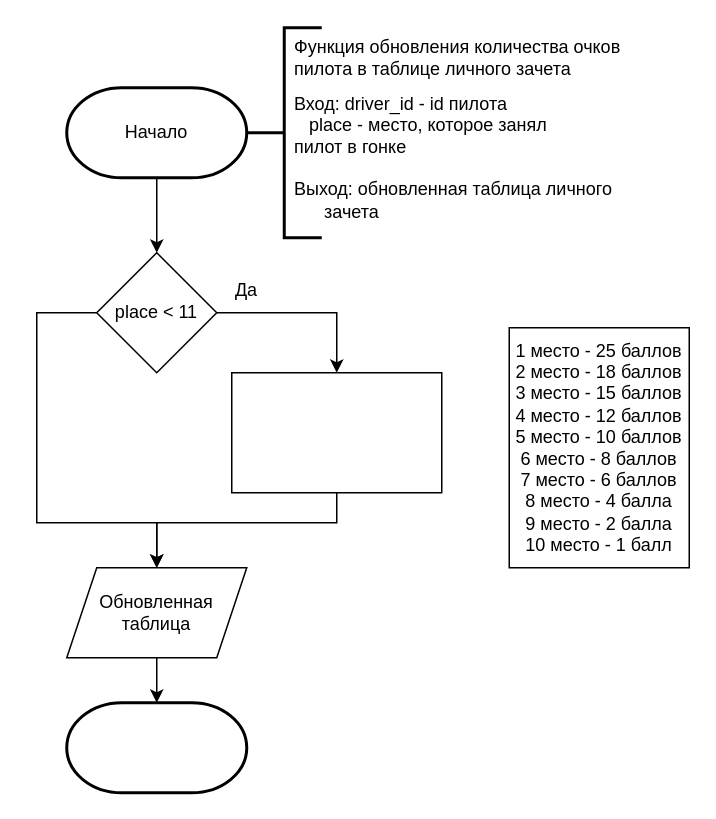
The diagram is 716 pixels wide and 819 high, and some of its shapes have lost their labels. Here are the shapes that lost their labels. From the top down, the box of each, then its label:
(230, 371, 442, 493): score += x (где x - количество баллов за соответствующее место)
(64, 700, 248, 794): Конец
